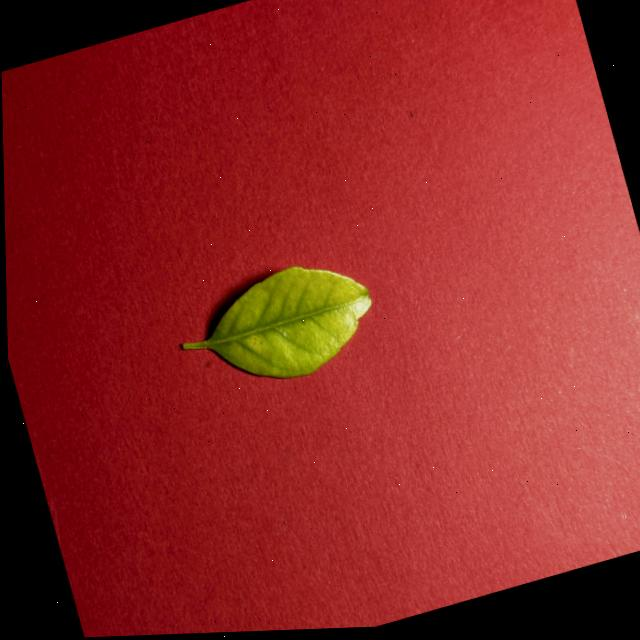greening: (181, 265, 371, 376)
